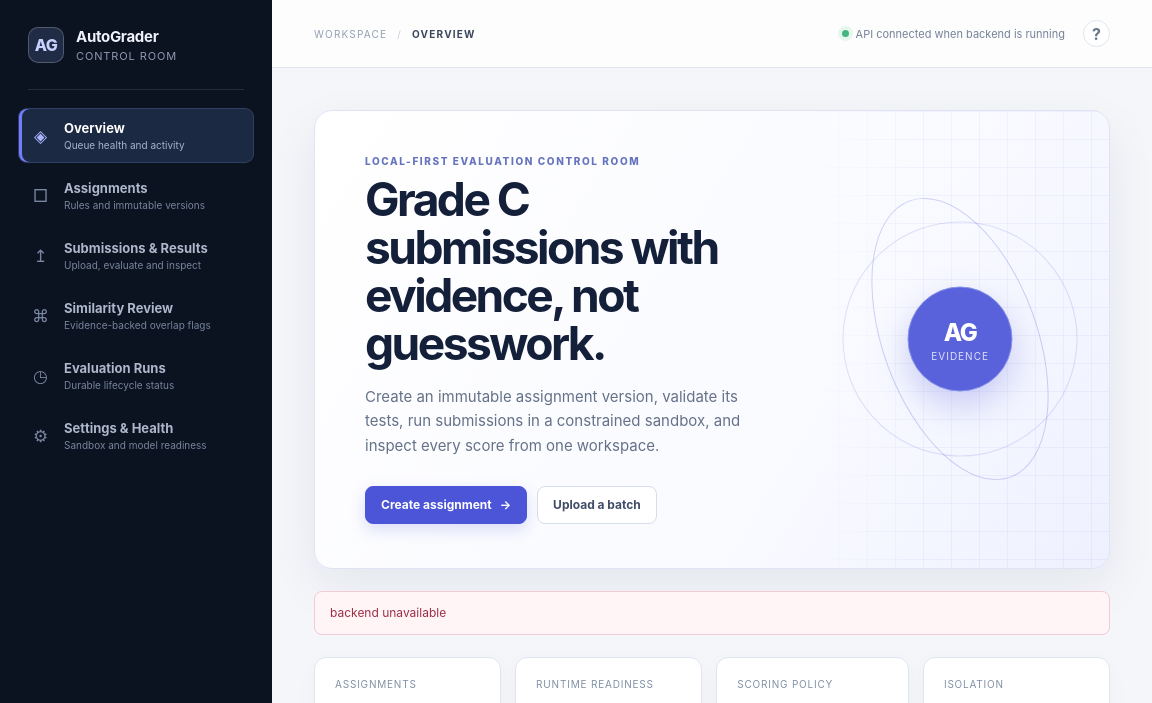
dashboard workflows › renders an API error in the operator workspace
This screenshot has width=1152, height=703.
Expected: the text "backend unavailable" is shown, [314,591,1110,635]
Click the button "⚙ Settings & Health Sandbox and model readiness" at point(136, 436), box [18,408,254,463]
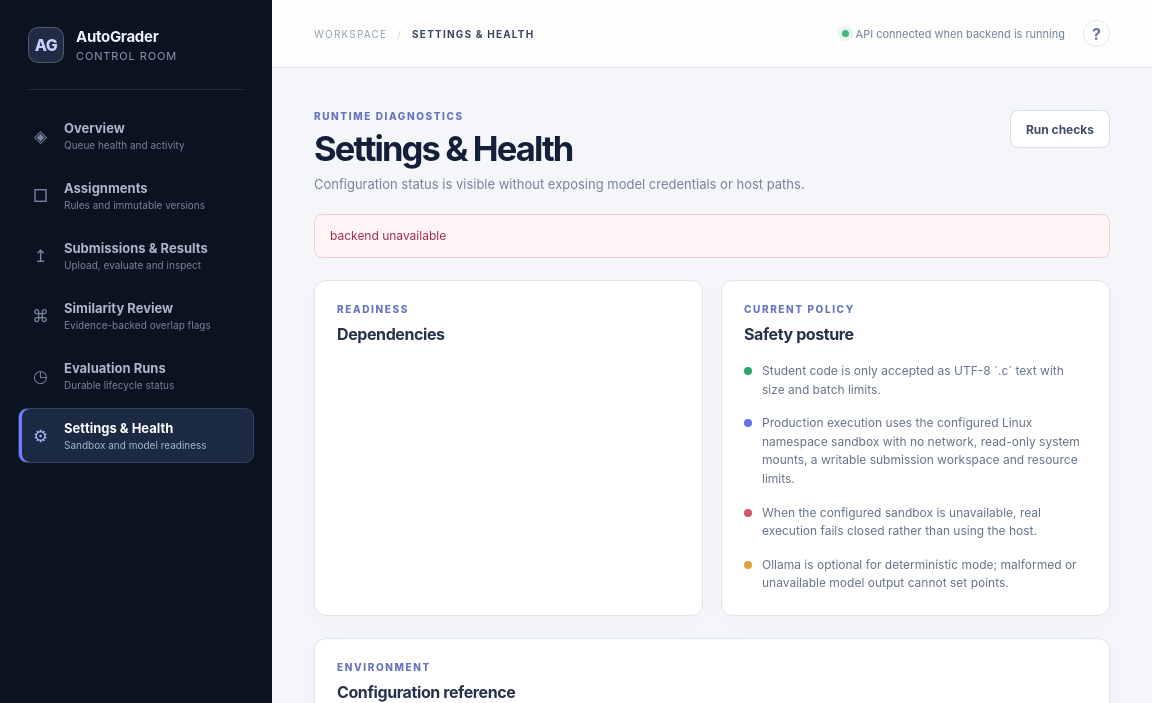
Result: the heading "Settings & Health" is shown at [314,128,572,169]
